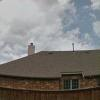Chimney: (17, 36, 43, 61)
